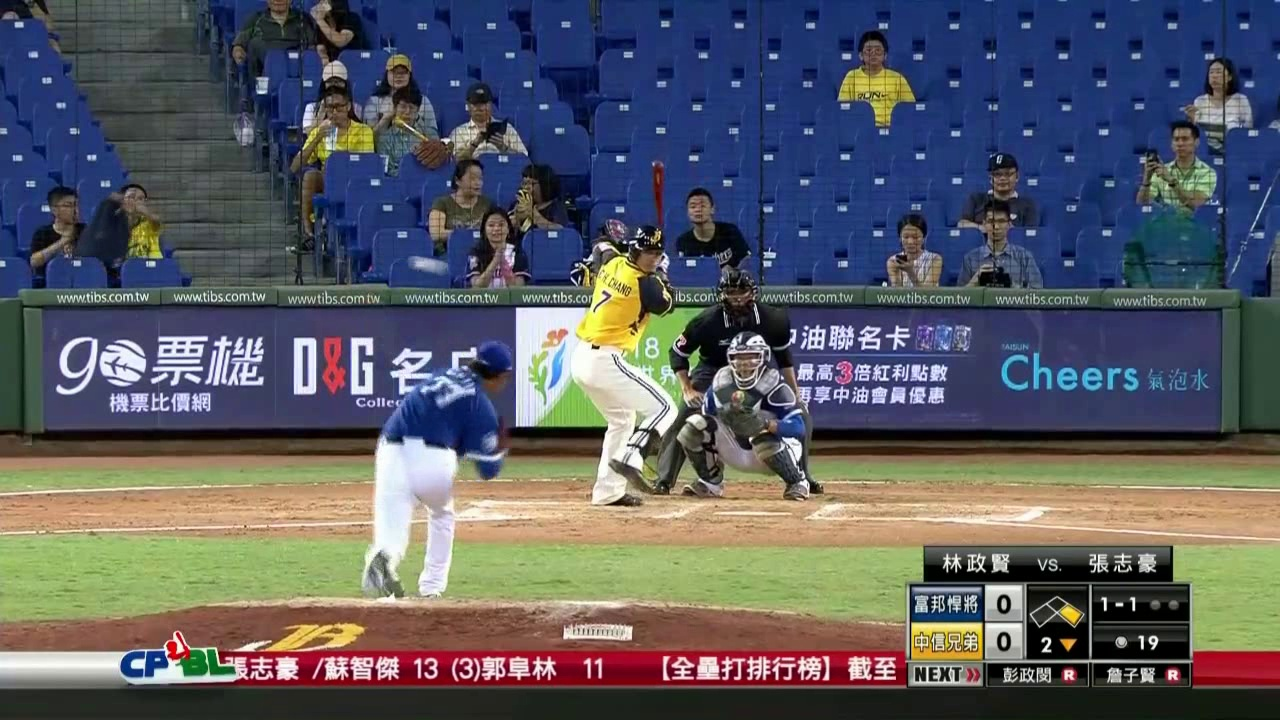ball: (410, 253, 433, 274)
base: (1027, 590, 1086, 628)
bat: (646, 156, 670, 235)
out: (1143, 588, 1186, 616)
score1: (987, 588, 1019, 620)
score2: (986, 628, 1021, 660)
session: (1027, 633, 1090, 659)
strikeball: (1094, 589, 1141, 621)
total: (1093, 627, 1184, 654)
